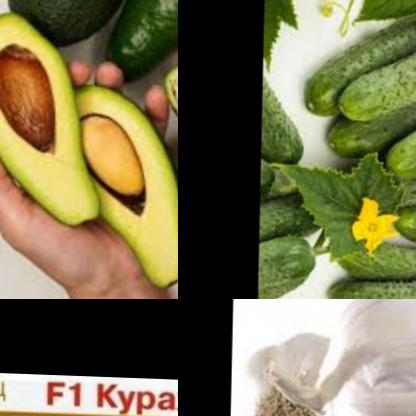avocado: (70, 60, 178, 299), (0, 2, 85, 246), (1, 0, 140, 45)
cucumber: (292, 0, 416, 125), (312, 74, 416, 160), (335, 16, 416, 126), (260, 215, 339, 299), (261, 173, 347, 239), (262, 79, 318, 177), (358, 139, 416, 216), (336, 233, 416, 282), (328, 261, 416, 299), (386, 182, 416, 249), (393, 94, 416, 174)
garlic: (228, 312, 362, 416), (299, 299, 416, 416)
